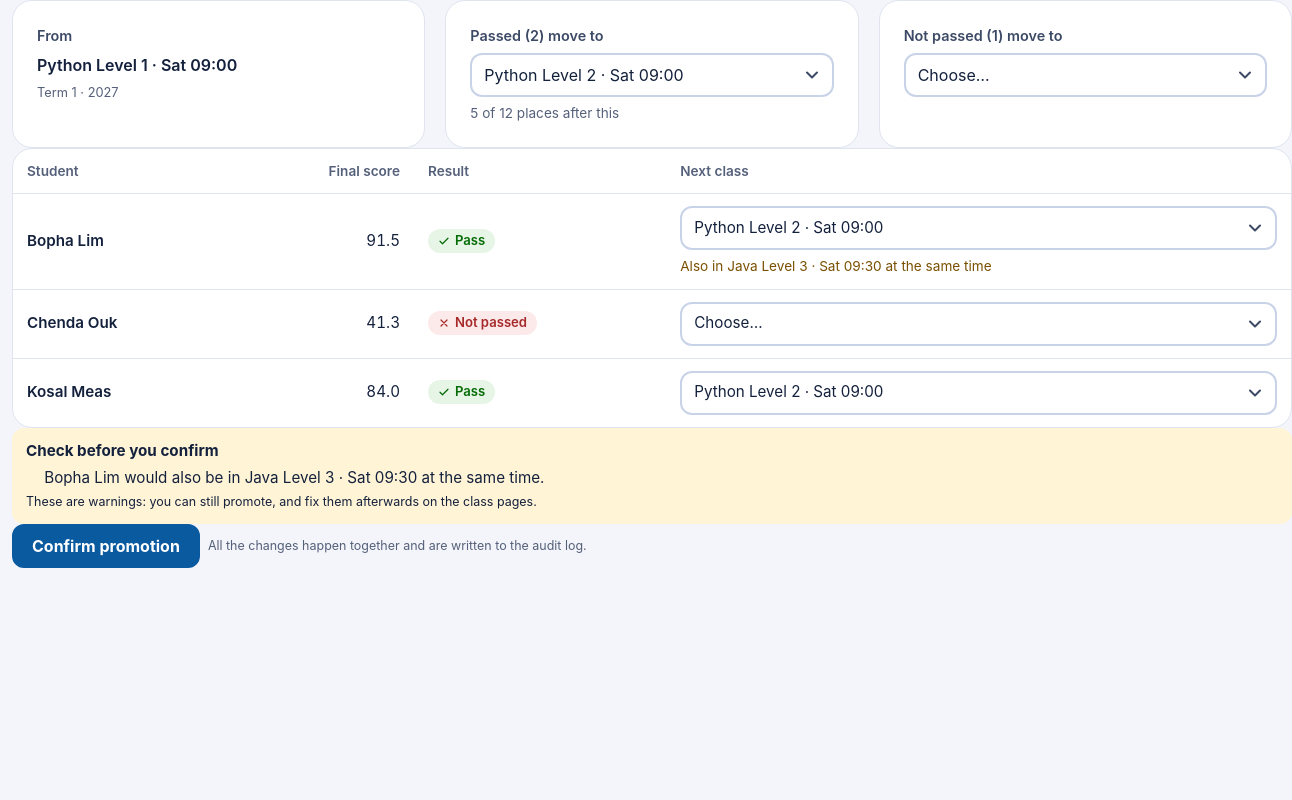
Scenario: PromotionWizard › asks for a choice for every student before confirming
Click the button "Confirm promotion": (106,546) [12,524,200,568]
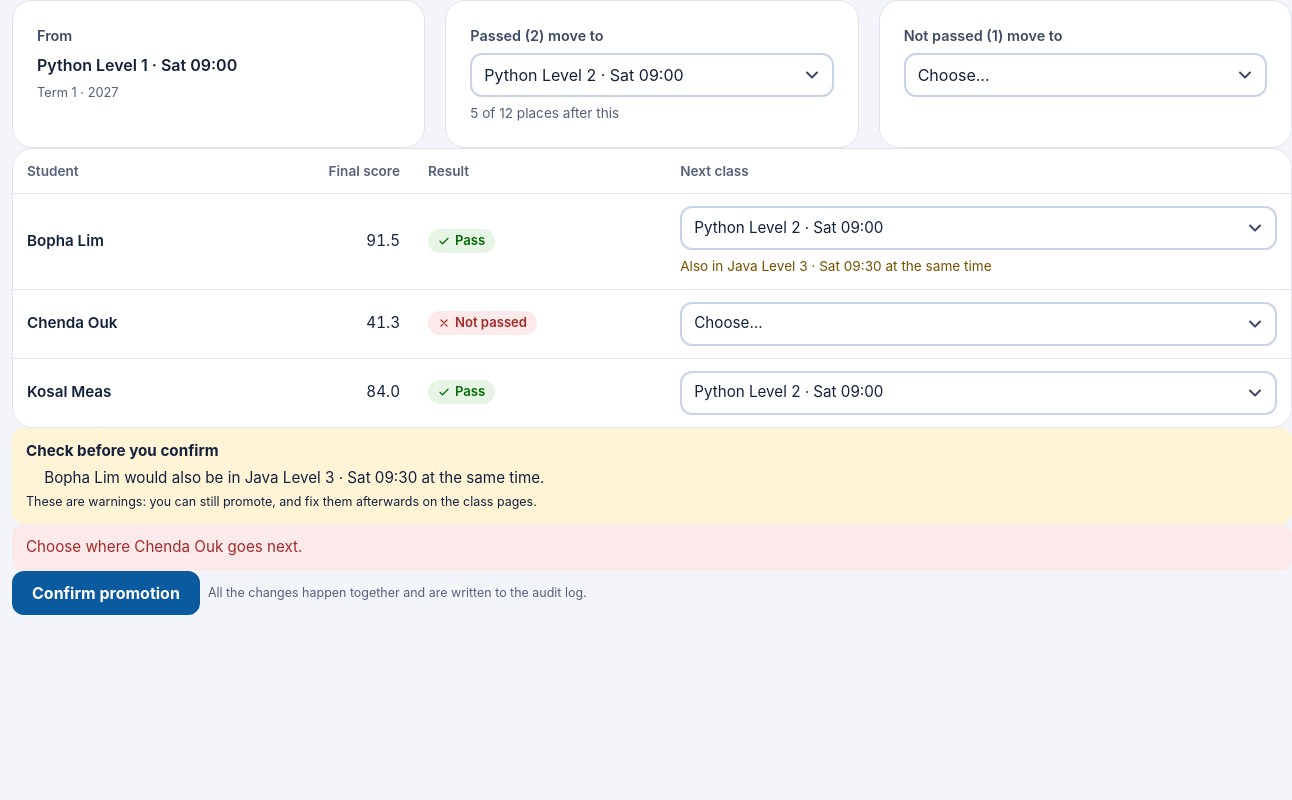
Now the message reads "Choose where Chenda Ouk goes next.", box [26,537,302,556]
